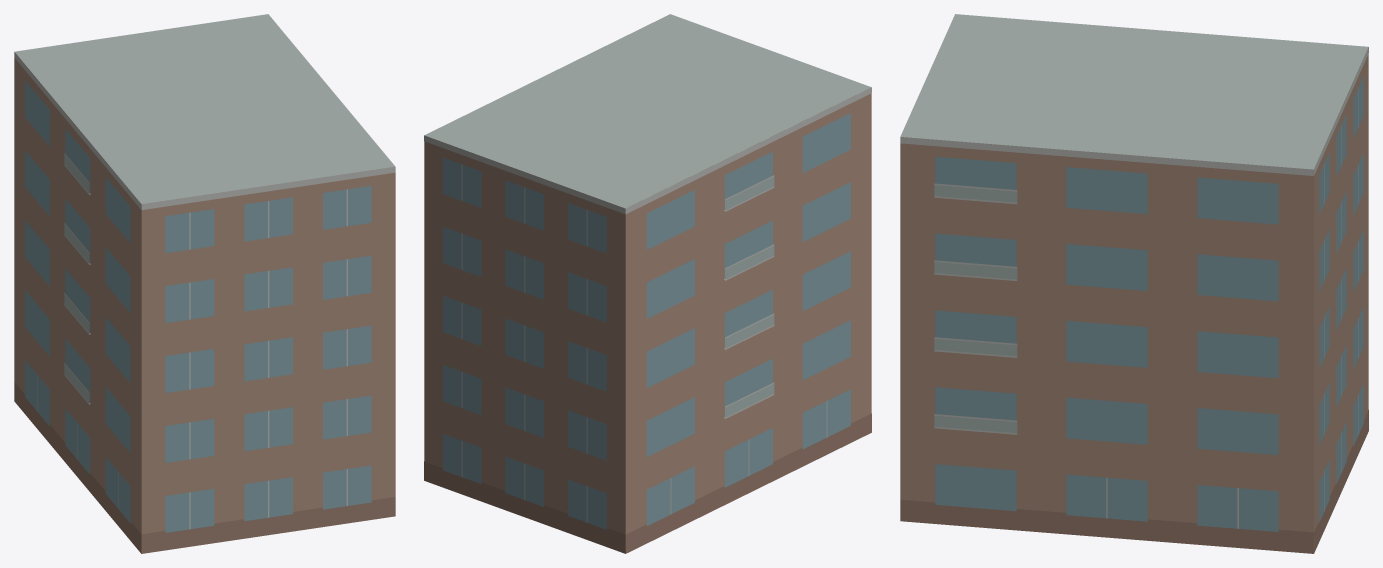
File: survey-upis-32979139.glb
The picture shows the model from 3 angles, left to right: view 1: azimuth 30°, elevation 25°; view 2: azimuth 150°, elevation 25°; view 3: azimuth 270°, elevation 25°; orthographic projection. The views are drawn at different scales.
Visible parts, largest first — view 1: survey-upis-32979139.tmp; view 2: survey-upis-32979139.tmp; view 3: survey-upis-32979139.tmp.
Part boxes in pixels (x1,y1,x2,y2): survey-upis-32979139.tmp: (14,14,395,553); survey-upis-32979139.tmp: (424,14,871,553); survey-upis-32979139.tmp: (900,14,1368,553).
Size of the model in its own units: 12.51 by 14.4 by 15.92.
